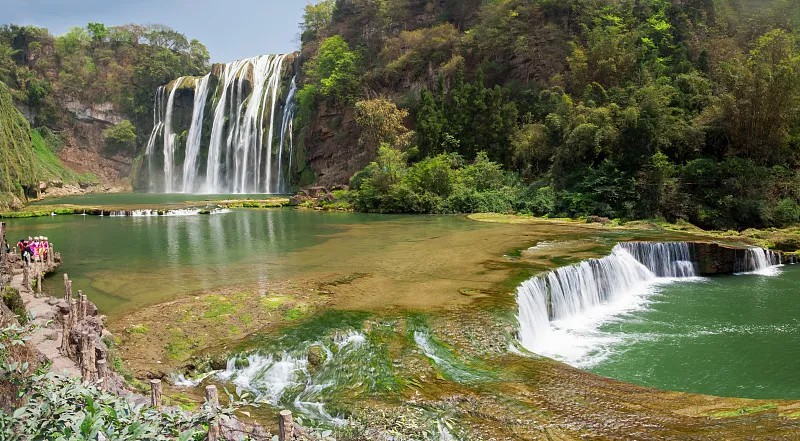Huangguoshu: (138, 53, 297, 195)
